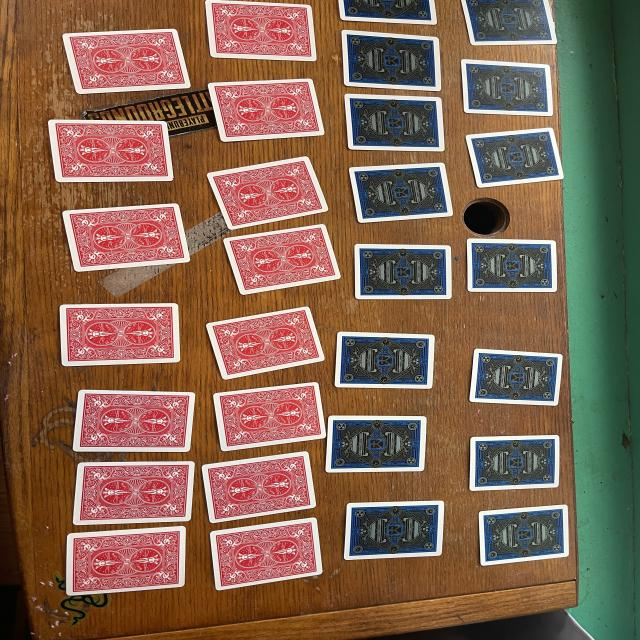card back: (207, 156, 328, 230), (207, 306, 325, 379), (63, 204, 190, 271), (62, 29, 190, 94), (223, 224, 340, 295), (65, 526, 185, 595), (210, 518, 323, 590), (202, 451, 315, 522), (48, 120, 173, 182), (213, 382, 325, 450), (73, 462, 193, 525), (73, 390, 195, 451), (60, 304, 180, 366), (208, 79, 325, 141), (205, 0, 315, 61), (348, 162, 453, 222), (343, 501, 445, 560), (342, 30, 440, 91), (465, 128, 563, 188), (335, 331, 435, 389), (345, 94, 445, 151), (327, 416, 427, 472), (355, 244, 452, 300), (478, 505, 568, 565), (470, 349, 563, 405), (462, 59, 553, 116), (470, 435, 560, 491), (467, 239, 557, 292), (462, 0, 557, 45), (338, 0, 437, 25)
